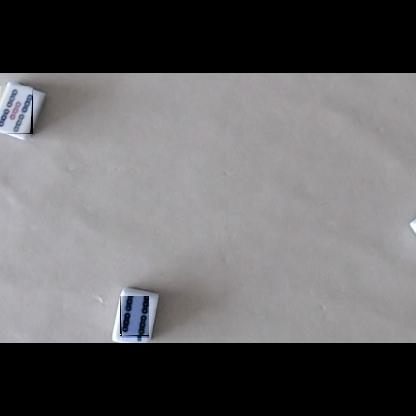4s: (120, 297, 149, 341)
5s: (0, 86, 33, 134)
